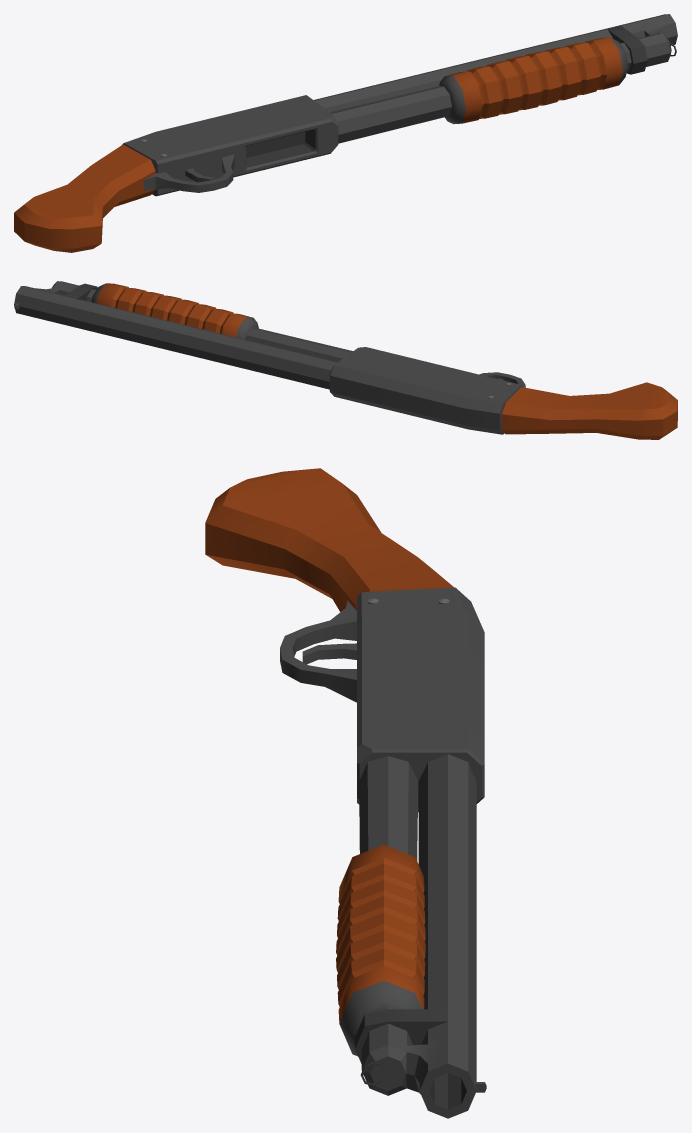
The model's file is Western_shotgun.fbx.
3 views of the same model, one above another, from view 1: azimuth 30°, elevation 25°; view 2: azimuth 150°, elevation 25°; view 3: azimuth 270°, elevation 25° (orthographic). The views are drawn at different scales.
Parts seen in each view (by area): view 1: Western_shotgun; view 2: Western_shotgun; view 3: Western_shotgun.
Part boxes in pixels (box(x1,y1,x2,y2)): Western_shotgun: box(14, 14, 677, 252); Western_shotgun: box(14, 281, 677, 439); Western_shotgun: box(205, 468, 486, 1118).
Bounding box in the file's own units: 30.6 × 2.2 × 6.06.
